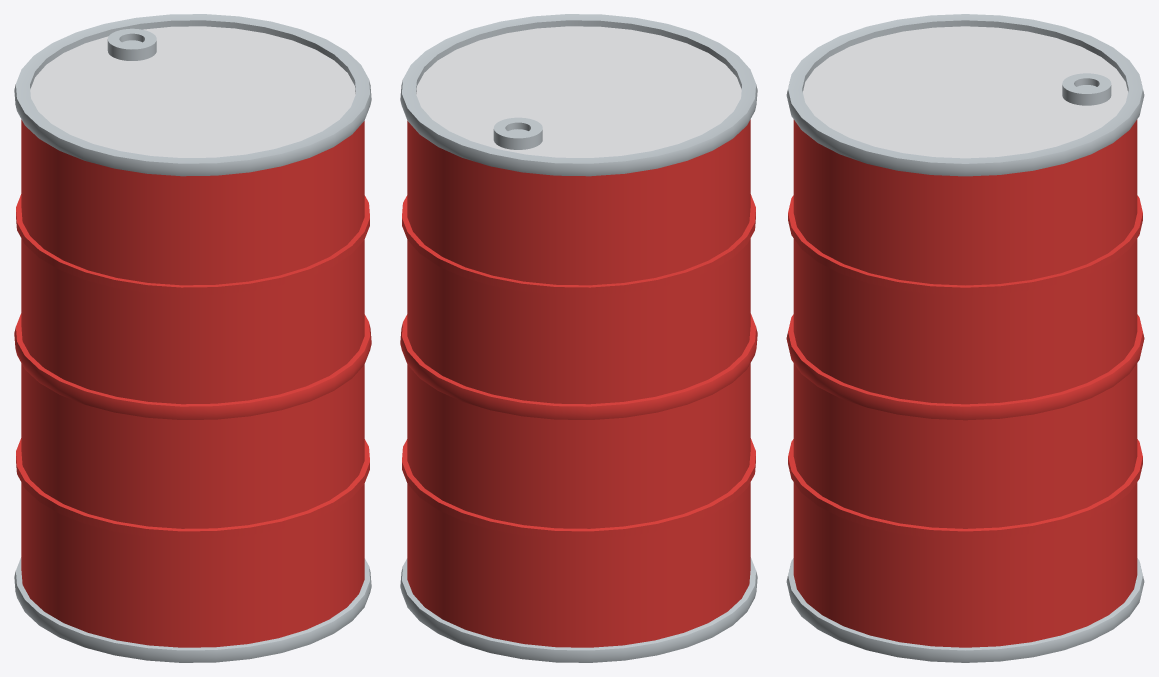
The model's file is oil_drum.glb.
3 renders of one model, left to right at view 1: azimuth 30°, elevation 25°; view 2: azimuth 150°, elevation 25°; view 3: azimuth 270°, elevation 25°, orthographic.
Visible parts, largest first — view 1: Cylinder.448; view 2: Cylinder.448; view 3: Cylinder.448.
Boxes of the visible parts, x1,y1,x2,y2 form: Cylinder.448: (14,14,371,662); Cylinder.448: (400,14,757,662); Cylinder.448: (786,14,1144,662).
Bounding box in the file's own units: 1.25 × 1.94 × 1.25.
Materials: 1 (1 with a texture image).
